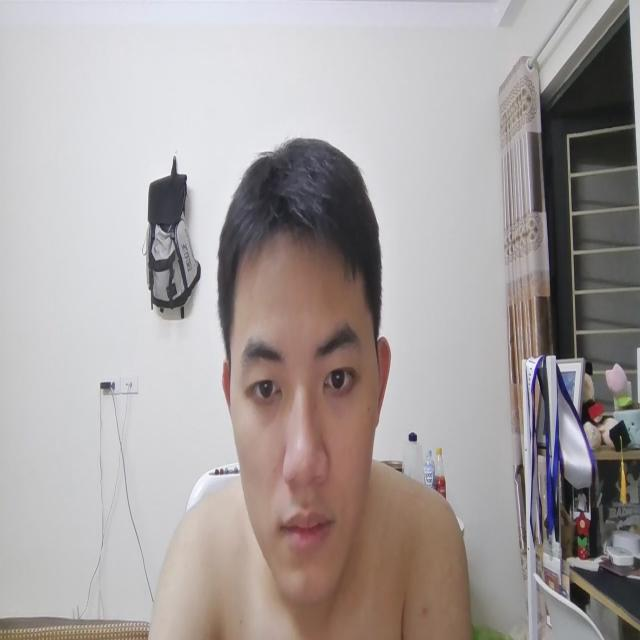student: (137, 132, 480, 640)
